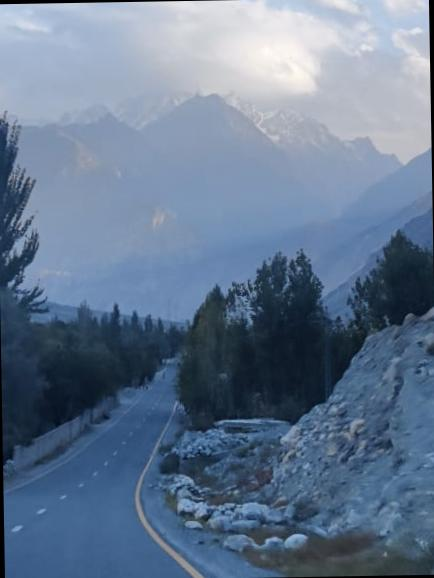sharp_turn: (93, 350, 182, 549)
